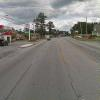Tree: (32, 8, 56, 37)
